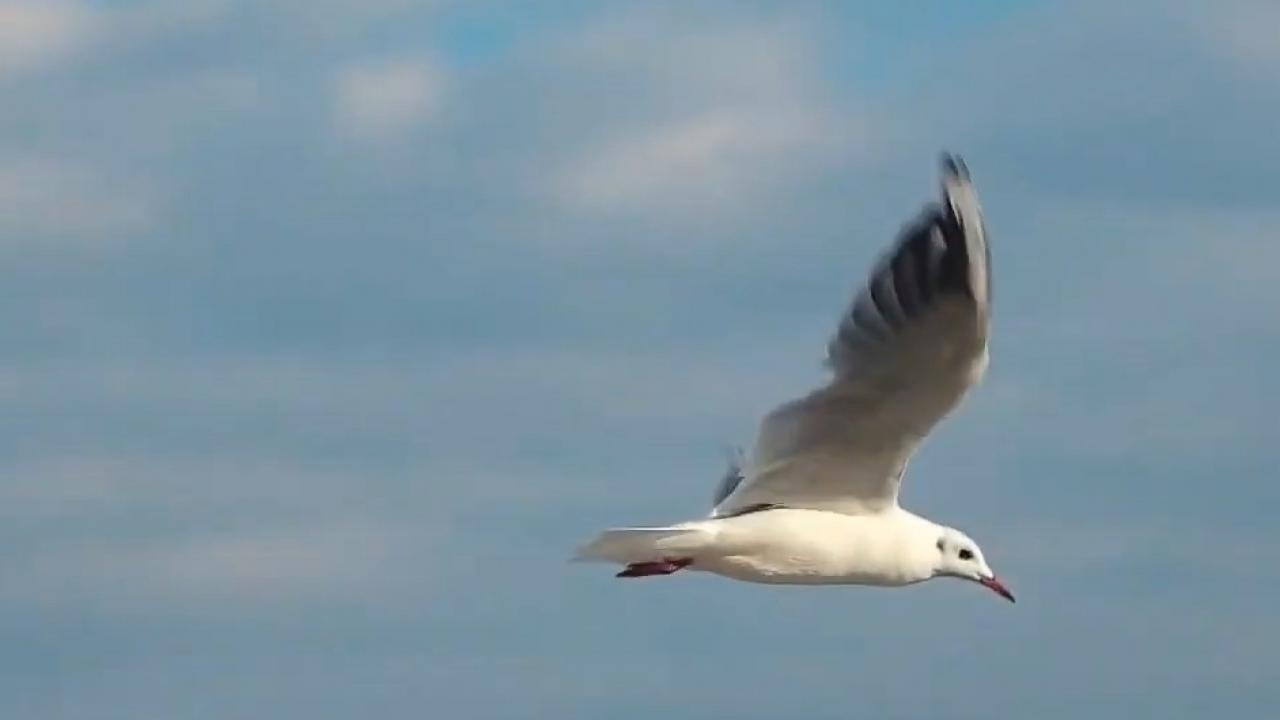Bird: (564, 141, 1040, 628)
